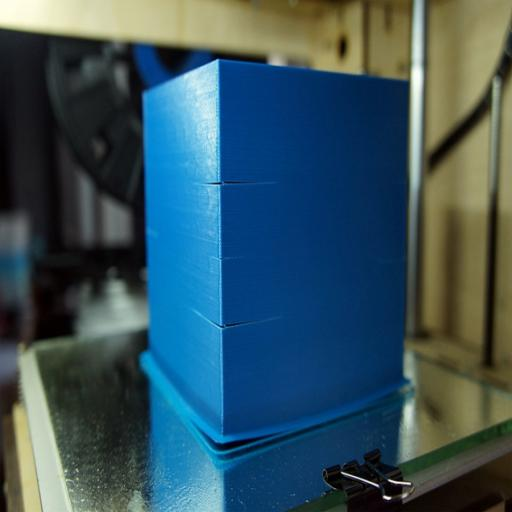cracks: (158, 387, 284, 466), (186, 300, 270, 344), (178, 172, 272, 208)
